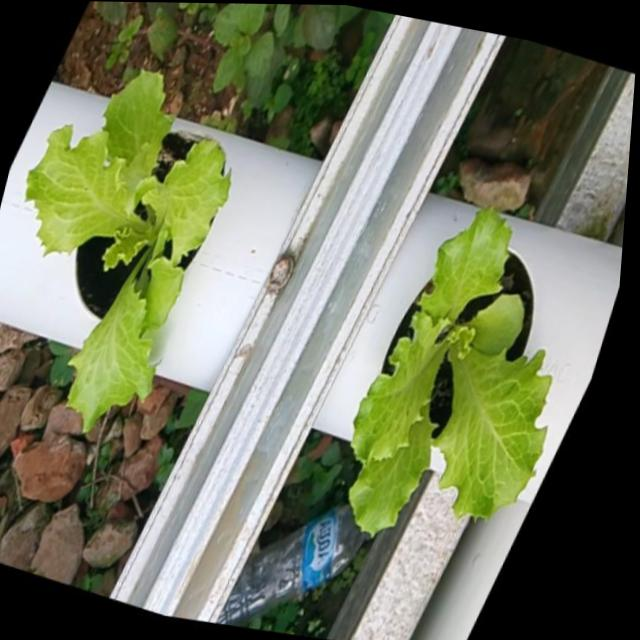Baby: (23, 59, 229, 423), (347, 196, 550, 530)
